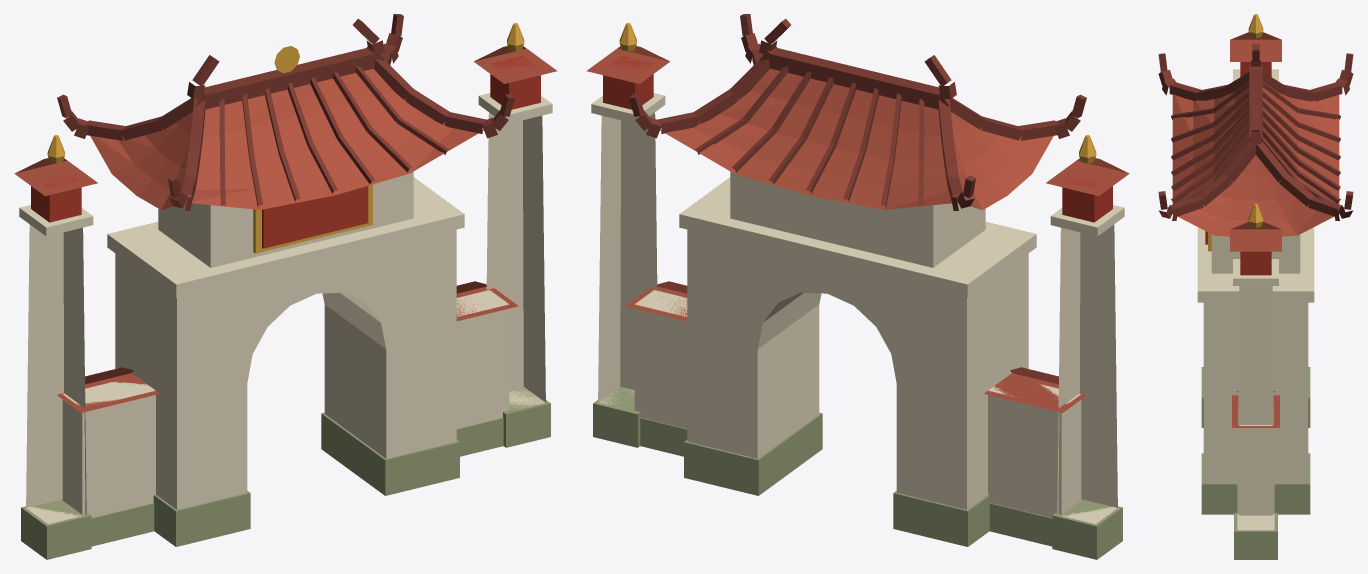
Rendered from viet_village_gate.glb.
3 views of the same model, side by side, from view 1: azimuth 30°, elevation 25°; view 2: azimuth 150°, elevation 25°; view 3: azimuth 270°, elevation 25° (orthographic). The views are drawn at different scales.
Parts seen in each view (by area): view 1: viet_village_gate; view 2: viet_village_gate; view 3: viet_village_gate.
Boxes of the visible parts, left/top/right/bottom form: viet_village_gate: left=14, top=14, right=557, bottom=559; viet_village_gate: left=586, top=14, right=1129, bottom=559; viet_village_gate: left=1158, top=14, right=1353, bottom=559.
Size of the model in its own units: 1 by 0.8402 by 0.3893.
